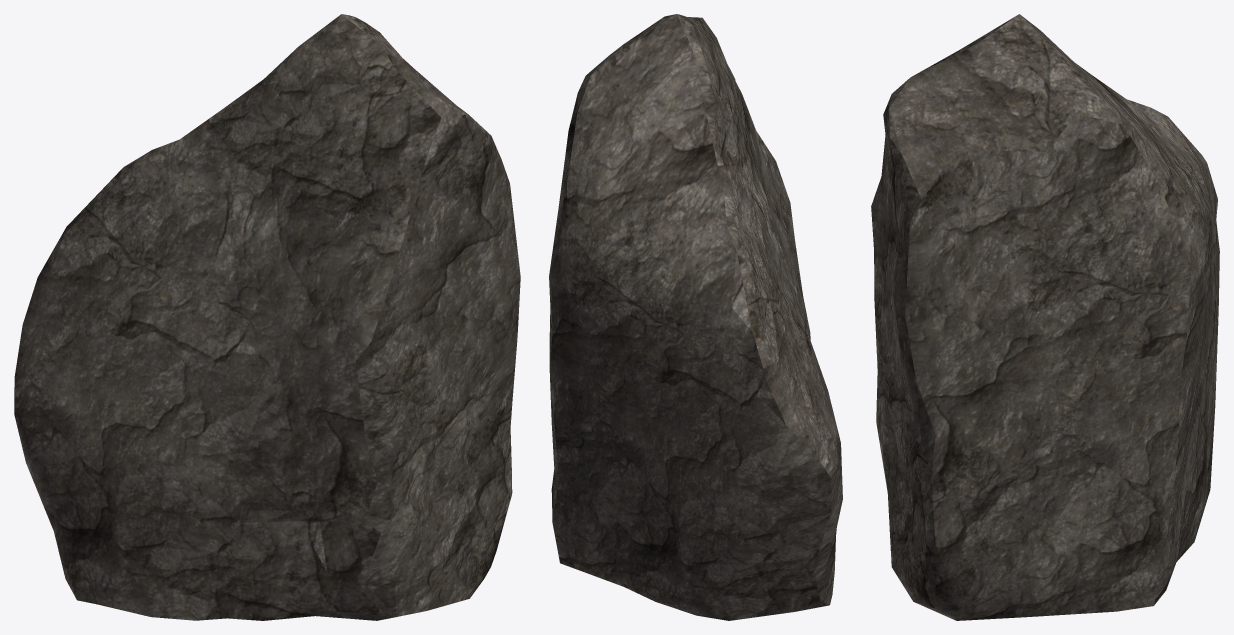
File: SM_Rock_17.gltf
3 renders of one model, left to right at view 1: azimuth 30°, elevation 25°; view 2: azimuth 150°, elevation 25°; view 3: azimuth 270°, elevation 25°, orthographic. The views are drawn at different scales.
Parts seen in each view (by area): view 1: node0; view 2: node0; view 3: node0.
Part boxes in pixels (bbox=[...]): node0: bbox=[14, 14, 520, 620]; node0: bbox=[549, 14, 842, 620]; node0: bbox=[871, 14, 1219, 620].
Size of the model in its own units: 0.8268 by 1.2 by 0.6743.
Materials: 1 (1 with a texture image).
